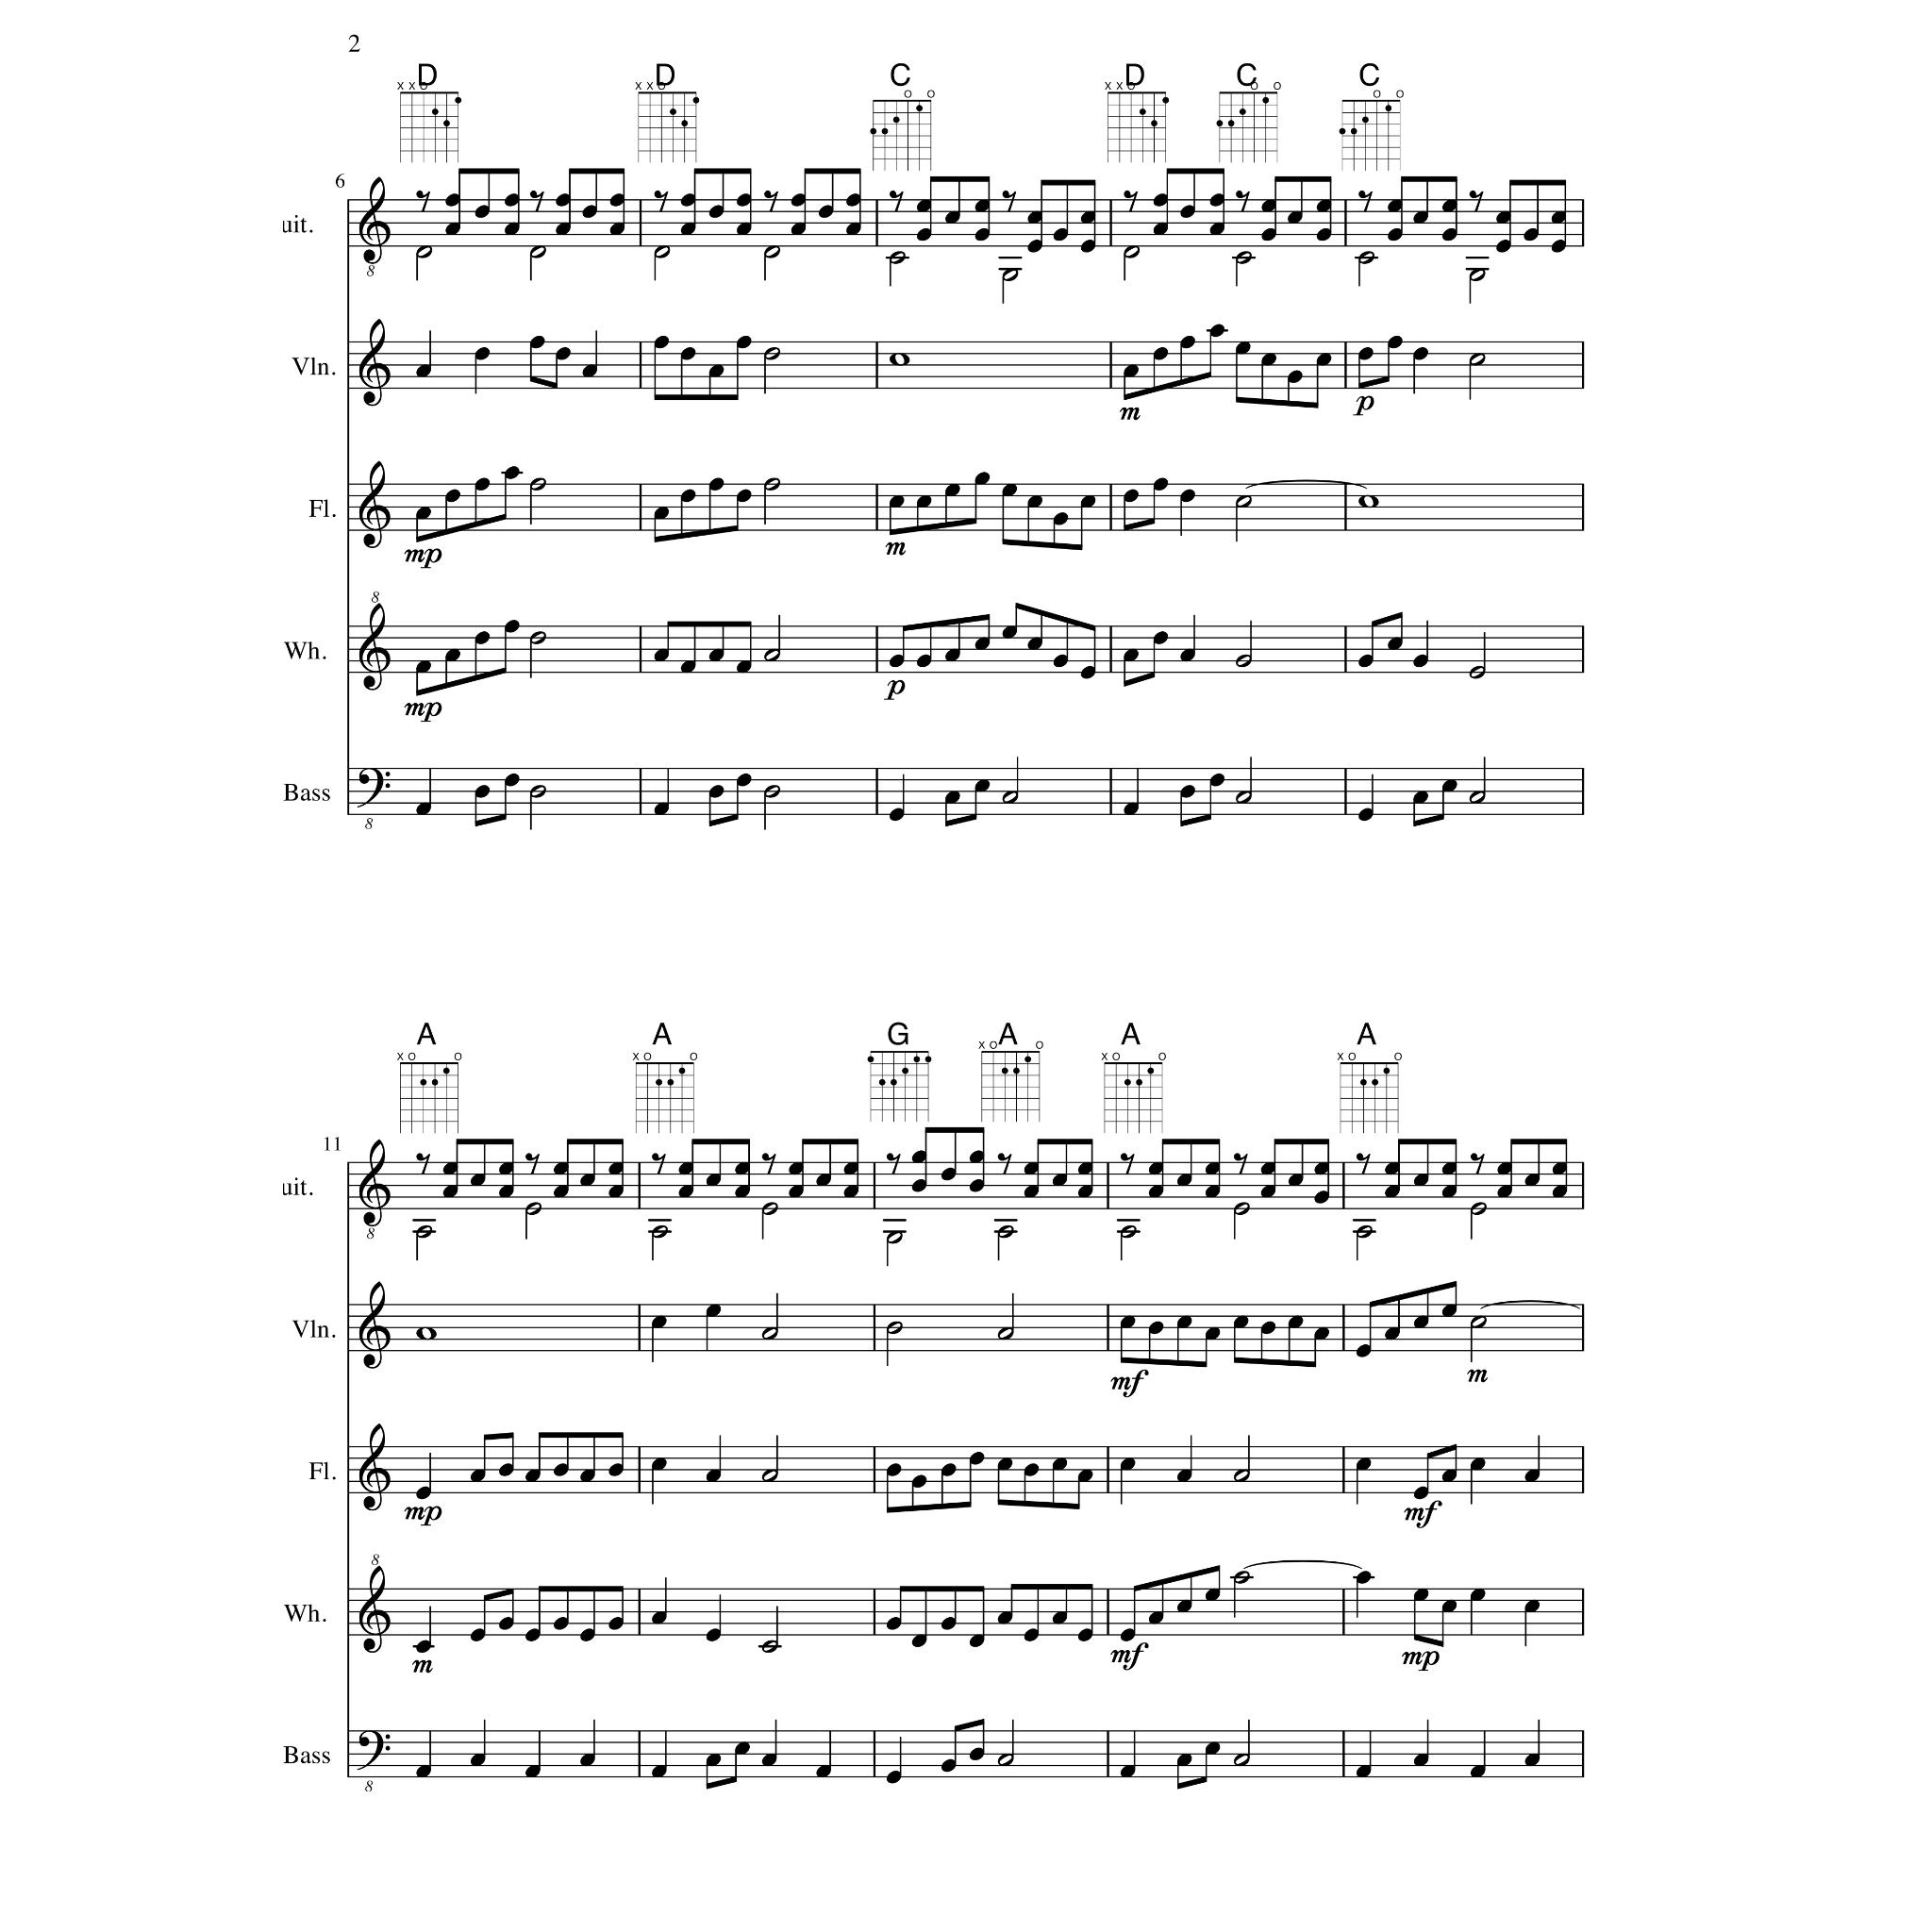fClef: (357, 768, 391, 808), (357, 1730, 391, 1770)
gClef: (358, 176, 391, 265), (358, 603, 391, 691), (358, 460, 391, 549), (358, 319, 391, 408), (358, 1565, 391, 1654), (358, 1423, 391, 1511), (358, 1281, 391, 1370), (358, 1139, 391, 1227)
noteheadBlack: (1123, 364, 1140, 379), (581, 364, 598, 379), (415, 364, 432, 379), (708, 364, 724, 379), (1023, 1462, 1040, 1477), (608, 1462, 625, 1477), (498, 1462, 515, 1477), (940, 1462, 957, 1477), (968, 1451, 985, 1466), (885, 1462, 902, 1477), (1053, 511, 1068, 526), (1002, 483, 1017, 498), (504, 619, 519, 634), (945, 483, 960, 498), (1357, 1570, 1372, 1585), (1357, 1343, 1372, 1358), (553, 1462, 568, 1477), (1179, 336, 1196, 349), (1179, 206, 1196, 219), (1179, 649, 1196, 662), (1179, 785, 1196, 798), (1179, 490, 1196, 503), (1026, 638, 1043, 651), (1026, 495, 1043, 508), (1026, 211, 1043, 225), (1026, 240, 1043, 253), (1123, 803, 1140, 816), (1123, 649, 1140, 662), (1123, 490, 1140, 503), (1079, 240, 1096, 253), (1079, 211, 1096, 225), (1079, 495, 1096, 508), (1079, 666, 1096, 679), (1441, 779, 1458, 792), (1441, 200, 1458, 213), (1441, 228, 1458, 241), (1523, 228, 1540, 241), (1315, 353, 1332, 366), (1315, 200, 1332, 213), (1315, 228, 1332, 241), (1260, 353, 1277, 366), (1260, 200, 1277, 213), (1260, 228, 1277, 241), (1387, 228, 1404, 241), (1387, 200, 1404, 213), (1387, 638, 1404, 651), (1387, 336, 1404, 349), (581, 206, 598, 219), (528, 336, 545, 349), (653, 507, 670, 520), (653, 336, 670, 349), (653, 649, 670, 662), (653, 803, 670, 816), (415, 660, 432, 674), (415, 507, 432, 520), (415, 803, 432, 816), (474, 785, 491, 798), (474, 631, 491, 644), (474, 478, 491, 491), (474, 347, 491, 360), (474, 206, 491, 219), (817, 206, 834, 219), (845, 193, 862, 207), (845, 223, 862, 236), (974, 779, 991, 792), (974, 638, 991, 651), (974, 472, 991, 485), (974, 200, 991, 213), (974, 228, 991, 241), (736, 774, 753, 787), (736, 660, 753, 674), (736, 490, 753, 503), (736, 336, 753, 349), (736, 193, 753, 207), (708, 785, 724, 798), (679, 660, 696, 674), (679, 490, 696, 503), (679, 347, 696, 360), (679, 193, 696, 207), (679, 223, 696, 236), (736, 223, 753, 236), (708, 206, 724, 219), (708, 478, 724, 491), (708, 649, 724, 662), (1204, 1327, 1221, 1341), (1204, 1185, 1221, 1198), (1204, 1741, 1221, 1755), (1204, 1589, 1221, 1602), (1204, 1162, 1221, 1175), (1287, 1315, 1304, 1328), (1287, 1174, 1304, 1187), (1147, 1162, 1164, 1175), (1023, 1628, 1040, 1641), (1023, 1162, 1040, 1175), (1023, 1185, 1040, 1198), (1119, 1315, 1136, 1328), (1051, 1174, 1068, 1187), (1051, 1457, 1068, 1471), (1051, 1611, 1068, 1624), (1147, 1322, 1164, 1335), (1147, 1185, 1164, 1198), (1119, 1765, 1136, 1778), (1119, 1628, 1136, 1641), (1119, 1457, 1136, 1471), (1147, 1611, 1164, 1624), (1496, 1162, 1513, 1175), (1496, 1185, 1513, 1198), (1551, 1185, 1568, 1198), (1551, 1162, 1568, 1175), (1413, 1754, 1430, 1767), (1413, 1589, 1430, 1602), (1413, 1487, 1430, 1500), (1413, 1315, 1430, 1328), (1413, 1174, 1430, 1187), (579, 1754, 596, 1767), (579, 1628, 596, 1641), (579, 1469, 596, 1482), (579, 1174, 596, 1187), (608, 1617, 625, 1630), (608, 1162, 625, 1175), (608, 1185, 625, 1198), (651, 1315, 668, 1328), (651, 1765, 668, 1778), (651, 1611, 668, 1624), (651, 1457, 668, 1471), (415, 1487, 432, 1500), (415, 1765, 432, 1778), (415, 1640, 432, 1653), (498, 1185, 515, 1198), (498, 1617, 515, 1630), (498, 1162, 515, 1175), (441, 1162, 458, 1175), (441, 1185, 458, 1198), (996, 1611, 1013, 1624), (996, 1457, 1013, 1471), (940, 1758, 957, 1772), (940, 1617, 957, 1630), (940, 1168, 957, 1181), (968, 1747, 985, 1760), (968, 1634, 985, 1647), (968, 1150, 985, 1163), (968, 1179, 985, 1192), (885, 1771, 902, 1784), (760, 1754, 777, 1767), (677, 1162, 694, 1175), (677, 1185, 694, 1198), (815, 1765, 832, 1778), (815, 1174, 832, 1187), (885, 1617, 902, 1630), (1153, 631, 1168, 644), (1153, 478, 1168, 491), (1153, 347, 1168, 360), (1153, 193, 1168, 207), (1153, 223, 1168, 236), (1236, 341, 1251, 355), (1209, 774, 1224, 787), (1209, 325, 1224, 338), (1209, 193, 1224, 207), (1209, 223, 1224, 236), (1053, 228, 1068, 241), (1002, 625, 1017, 639), (1053, 655, 1068, 668), (1496, 211, 1511, 225), (1496, 240, 1511, 253), (1413, 791, 1428, 804), (1413, 655, 1428, 668), (1413, 347, 1428, 360), (1413, 211, 1428, 225), (1551, 211, 1566, 225), (1551, 240, 1566, 253), (1358, 808, 1374, 822), (1358, 655, 1374, 668), (1358, 347, 1374, 360), (1287, 211, 1302, 225), (1287, 371, 1302, 384), (555, 347, 570, 360), (555, 193, 570, 207), (555, 223, 570, 236), (609, 193, 625, 207), (609, 223, 625, 236), (504, 774, 519, 787), (504, 466, 519, 479), (504, 193, 519, 207), (504, 223, 519, 236), (445, 649, 460, 662), (445, 490, 460, 503), (445, 193, 460, 207), (445, 223, 460, 236), (889, 808, 904, 822), (791, 193, 806, 207), (791, 223, 806, 236), (889, 655, 904, 668), (889, 495, 904, 508), (945, 791, 960, 804), (945, 649, 960, 662), (945, 211, 960, 225), (917, 655, 932, 668), (917, 495, 932, 508), (917, 200, 932, 213), (917, 228, 932, 241), (1176, 1174, 1191, 1187), (1176, 1315, 1191, 1328), (1176, 1754, 1191, 1767), (1176, 1600, 1191, 1613), (1176, 1469, 1191, 1482), (1260, 1322, 1275, 1335), (1260, 1162, 1275, 1175), (1260, 1185, 1275, 1198), (1234, 1315, 1249, 1328), (1077, 1628, 1092, 1641), (1077, 1469, 1092, 1482), (1077, 1162, 1092, 1175), (1077, 1185, 1092, 1198), (1524, 1754, 1540, 1767), (1524, 1600, 1540, 1613), (1524, 1469, 1540, 1482), (1524, 1174, 1540, 1187), (1470, 1765, 1485, 1778), (1470, 1589, 1485, 1602), (1470, 1457, 1485, 1471), (1314, 1327, 1329, 1341), (1314, 1162, 1329, 1175), (1314, 1191, 1329, 1204), (1357, 1765, 1372, 1778), (1357, 1457, 1372, 1471), (1441, 1185, 1457, 1198), (1441, 1600, 1457, 1613), (1441, 1469, 1457, 1482), (1441, 1304, 1457, 1317), (1441, 1162, 1457, 1175), (1385, 1162, 1400, 1175), (1385, 1327, 1400, 1341), (1385, 1185, 1400, 1198), (553, 1617, 568, 1630), (553, 1162, 568, 1175), (553, 1185, 568, 1198), (525, 1765, 540, 1778), (525, 1628, 540, 1641), (525, 1469, 540, 1482), (470, 1754, 485, 1767), (470, 1628, 485, 1641), (470, 1469, 485, 1482), (470, 1174, 485, 1187), (911, 1634, 926, 1647), (911, 1474, 926, 1488), (911, 1150, 926, 1163), (911, 1179, 926, 1192), (735, 1741, 750, 1755), (735, 1162, 750, 1175), (735, 1185, 750, 1198), (706, 1754, 721, 1767), (706, 1628, 721, 1641), (706, 1469, 721, 1482), (706, 1304, 721, 1317), (706, 1174, 721, 1187), (789, 1162, 804, 1175), (843, 1185, 858, 1198), (843, 1162, 858, 1175), (789, 1185, 804, 1198)
noteheadHalf: (1002, 268, 1019, 283), (1469, 268, 1486, 283), (1233, 1570, 1250, 1585), (1235, 495, 1252, 508), (1235, 251, 1252, 264), (1235, 655, 1252, 668), (1235, 791, 1252, 804), (1002, 791, 1019, 804), (1123, 246, 1140, 259), (1469, 791, 1486, 804), (1469, 666, 1486, 679), (1469, 353, 1486, 366), (1357, 251, 1374, 264), (529, 785, 546, 798), (529, 631, 546, 644), (529, 478, 546, 491), (529, 246, 546, 259), (654, 246, 671, 259), (415, 246, 432, 259), (889, 251, 906, 264), (763, 246, 780, 259), (763, 785, 780, 798), (763, 649, 780, 662), (763, 478, 780, 491), (763, 347, 780, 360), (1233, 1754, 1250, 1767), (1233, 1469, 1250, 1482), (1233, 1202, 1250, 1215), (1120, 1225, 1137, 1239), (1470, 1316, 1487, 1329), (1470, 1202, 1487, 1215), (1356, 1225, 1373, 1239), (651, 1225, 668, 1239), (415, 1225, 432, 1239), (525, 1202, 541, 1215), (997, 1754, 1014, 1767), (997, 1327, 1014, 1341), (997, 1225, 1014, 1239), (761, 1202, 778, 1215), (761, 1640, 778, 1653), (761, 1469, 778, 1482), (761, 1327, 778, 1341), (886, 1231, 903, 1244), (886, 1322, 903, 1335)
noteheadWhole: (415, 1326, 438, 1341), (1358, 494, 1379, 509), (889, 353, 909, 366)
rest8th: (1235, 191, 1250, 213), (1002, 191, 1017, 213), (1123, 191, 1138, 213), (1469, 191, 1484, 213), (1357, 191, 1373, 213), (529, 191, 544, 213), (654, 191, 669, 213), (415, 191, 430, 213), (889, 191, 904, 213), (763, 191, 778, 213), (1233, 1153, 1248, 1175), (1120, 1153, 1135, 1175), (1470, 1153, 1485, 1175), (1356, 1153, 1371, 1175), (651, 1153, 666, 1175), (415, 1153, 430, 1175), (525, 1153, 540, 1175), (997, 1153, 1012, 1175), (761, 1153, 776, 1175), (886, 1153, 901, 1175)
